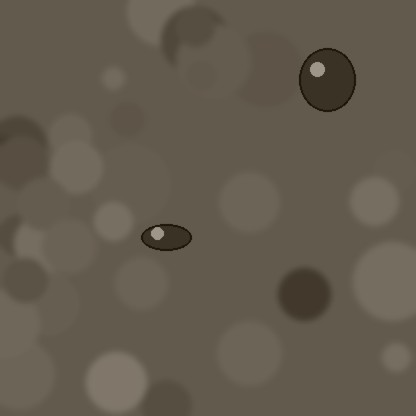gota: (299, 50, 355, 116), (141, 225, 191, 253)
